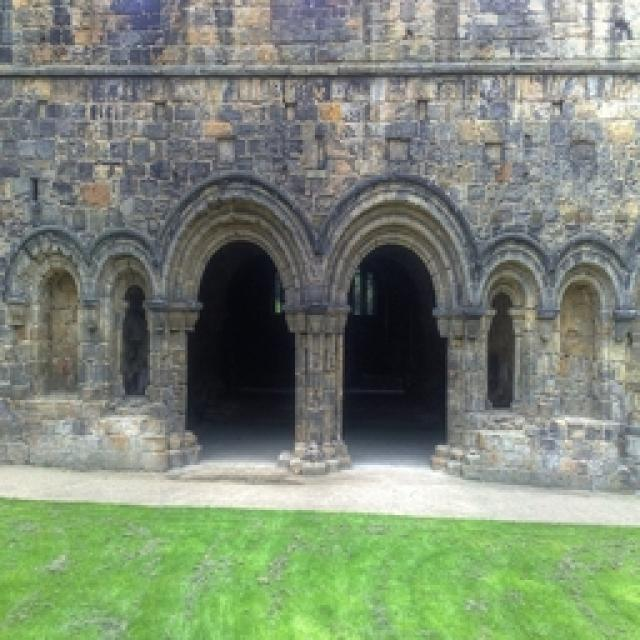Abbey: (151, 141, 505, 514)
